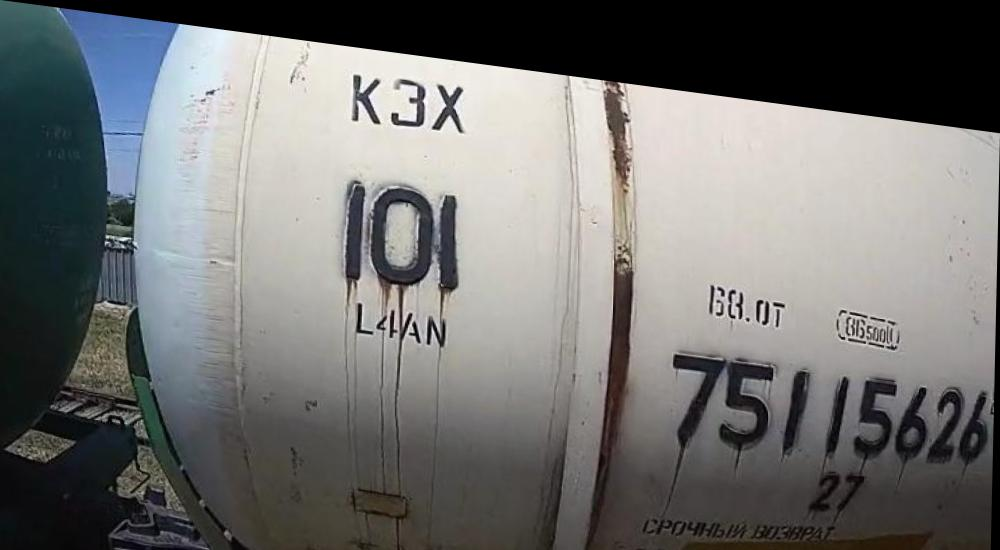Wagon-number: (664, 324, 996, 459)
